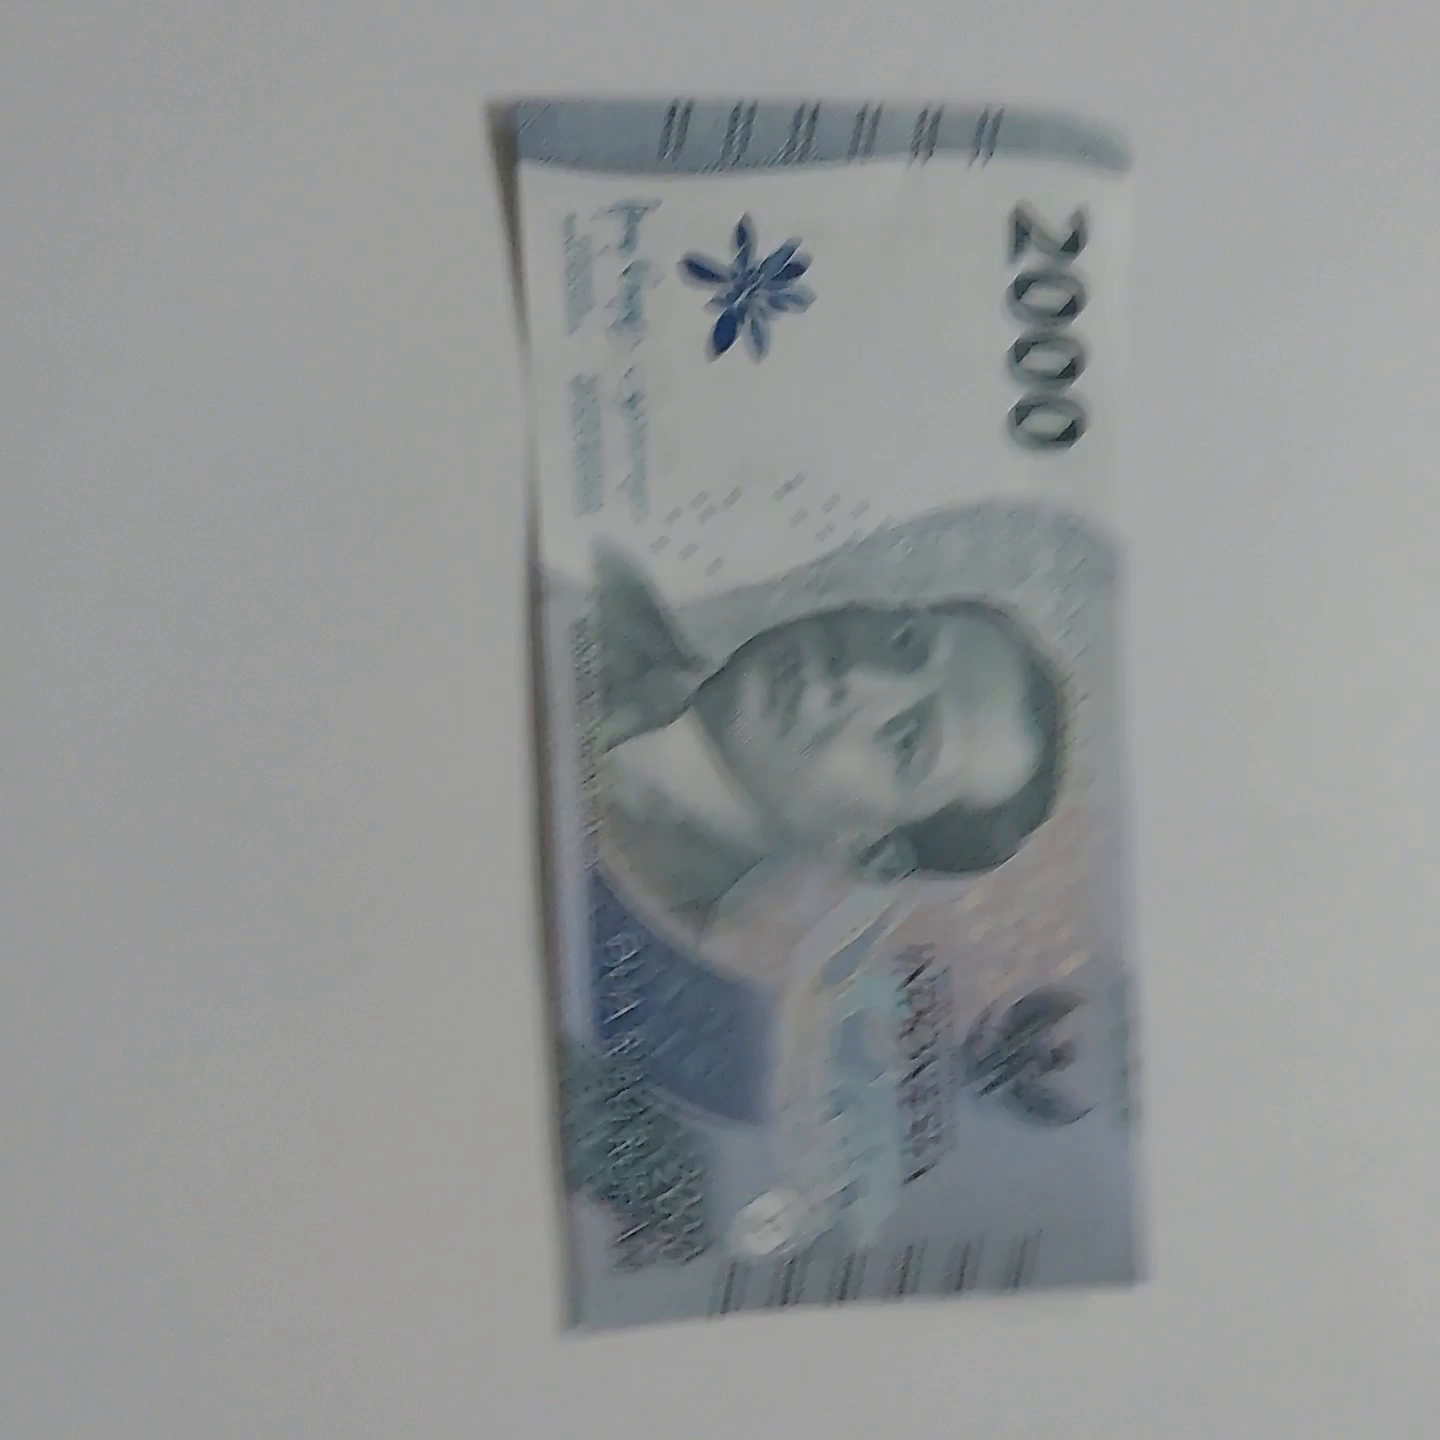2k: (475, 78, 1159, 1349)
